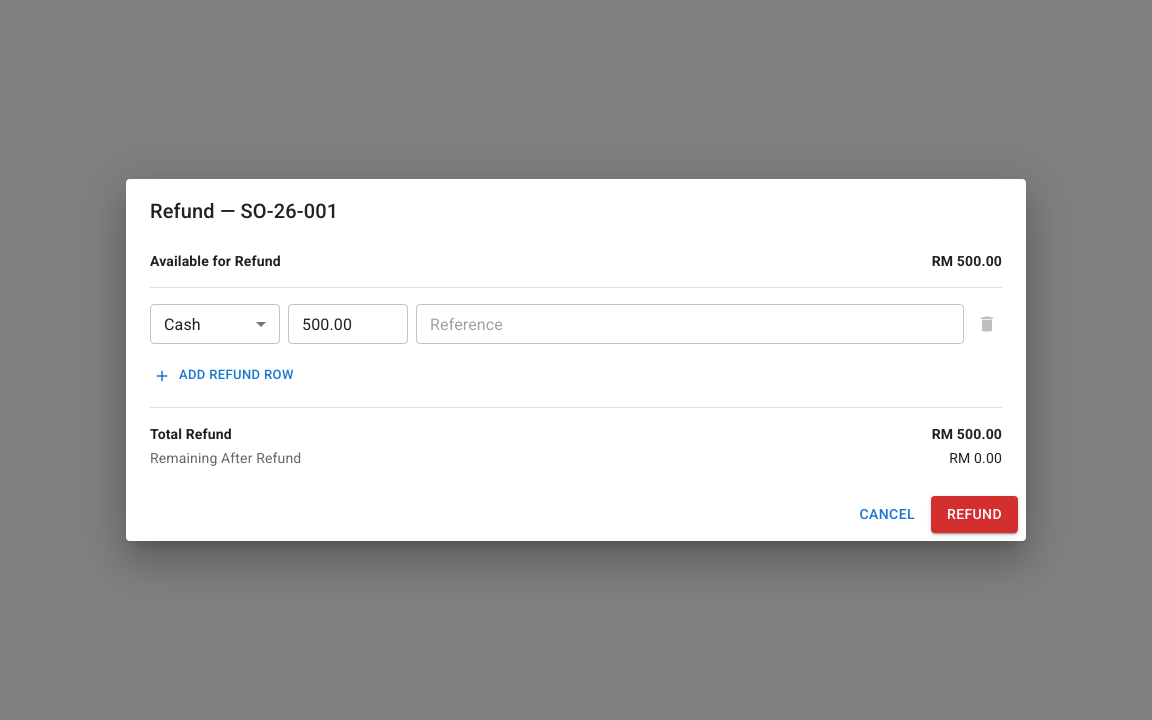
it: RefundDialog › offers every active method, including ones absent from the seed
Click the dropdown named "Refund method, line 1": [182, 324] box x1=164 y1=315 x2=201 y2=334
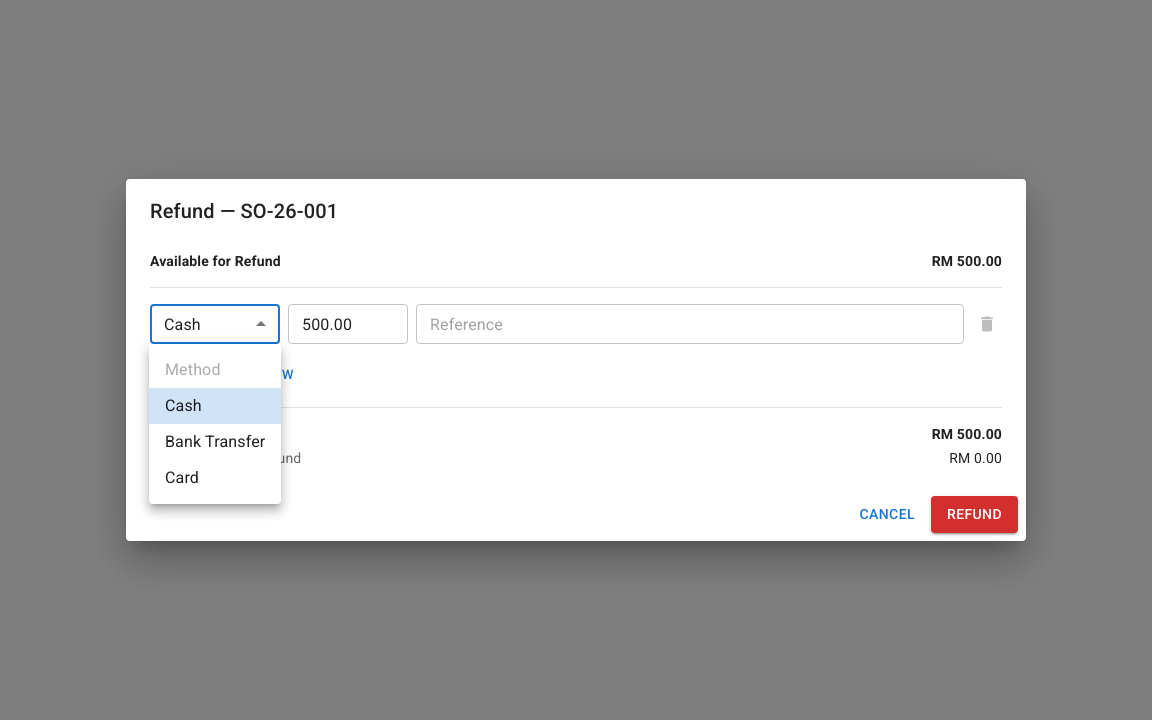
Check: the option "Card" is shown, box x1=165 y1=468 x2=199 y2=487
